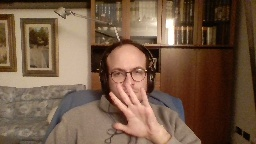Mano_aperta: (105, 79, 159, 139)
